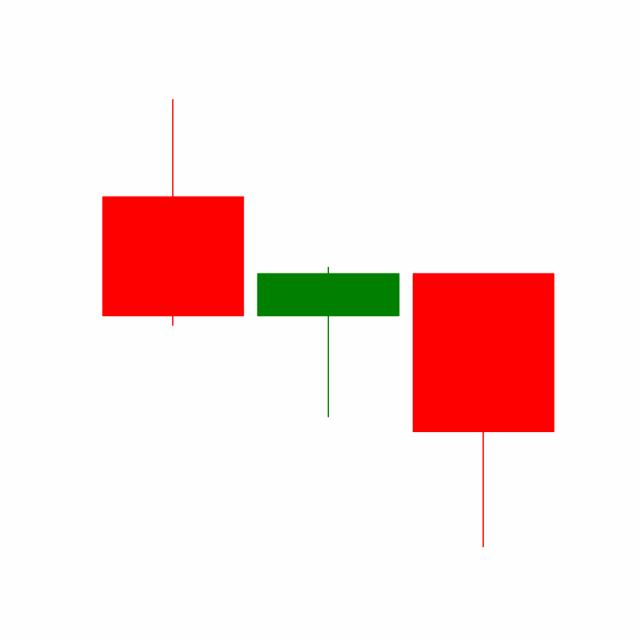Hammer: (249, 264, 406, 418)
